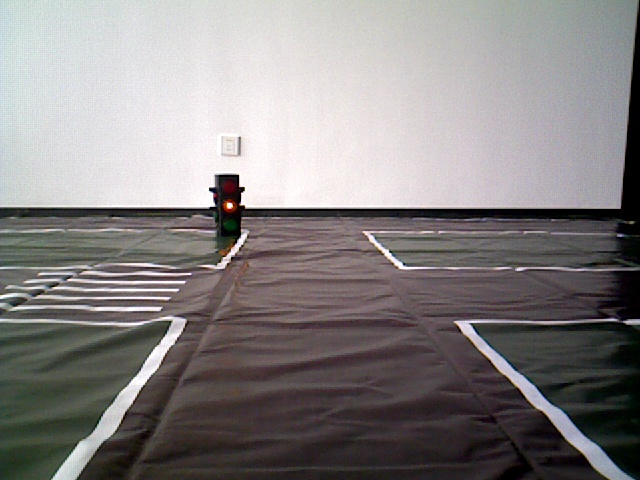yellow: (209, 168, 243, 242)
